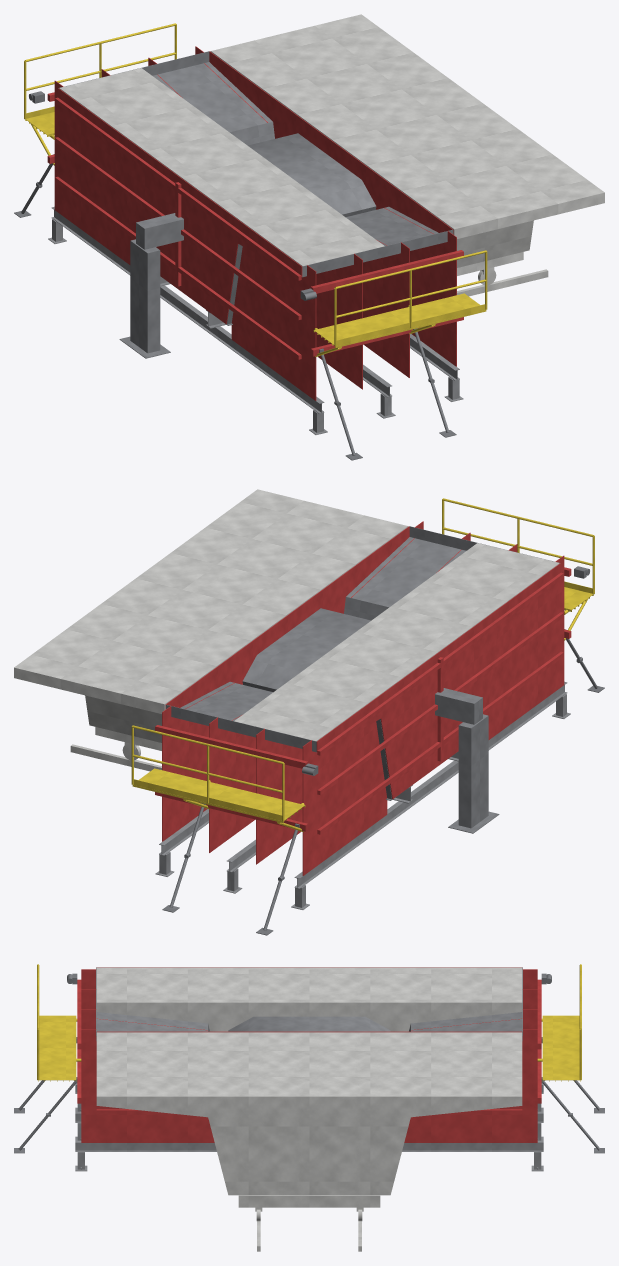
File: short-line-mould.glb
3 views of the same model, one above another, from view 1: azimuth 30°, elevation 25°; view 2: azimuth 150°, elevation 25°; view 3: azimuth 270°, elevation 25° (orthographic). The views are drawn at different scales.
Visible parts, largest first — view 1: Match-CastSegment(context), Ribs&Walers, EndBulkheads, ConcreteUnit(context), InnerCore, SideShutters, Walkways, BaseFrame, Props&Clamps; view 2: Match-CastSegment(context), Ribs&Walers, EndBulkheads, ConcreteUnit(context), InnerCore, SideShutters, Walkways, BaseFrame, Props&Clamps; view 3: Match-CastSegment(context), ConcreteUnit(context), Ribs&Walers, Walkways, BaseFrame, SideShutters, InnerCore, EndBulkheads, Props&Clamps.
Boxes of the visible parts, x1=… form: Match-CastSegment(context): x1=210, y1=14, x2=604, y2=296; Ribs&Walers: x1=47, y1=46, x2=463, y2=400; EndBulkheads: x1=55, y1=51, x2=453, y2=359; ConcreteUnit(context): x1=59, y1=68, x2=384, y2=266; InnerCore: x1=119, y1=133, x2=376, y2=358; SideShutters: x1=58, y1=51, x2=452, y2=324; Walkways: x1=24, y1=23, x2=487, y2=356; BaseFrame: x1=48, y1=206, x2=463, y2=434; Props&Clamps: x1=14, y1=154, x2=456, y2=460; Match-CastSegment(context): x1=14, y1=489, x2=408, y2=771; Ribs&Walers: x1=155, y1=521, x2=571, y2=875; EndBulkheads: x1=165, y1=526, x2=563, y2=834; ConcreteUnit(context): x1=234, y1=543, x2=559, y2=741; InnerCore: x1=242, y1=608, x2=499, y2=833; SideShutters: x1=166, y1=526, x2=560, y2=799; Walkways: x1=131, y1=498, x2=594, y2=831; BaseFrame: x1=155, y1=681, x2=570, y2=909; Props&Clamps: x1=162, y1=629, x2=604, y2=935; Match-CastSegment(context): x1=96, y1=1032, x2=522, y2=1251; ConcreteUnit(context): x1=96, y1=967, x2=522, y2=1031; Ribs&Walers: x1=77, y1=969, x2=541, y2=1142; Walkways: x1=37, y1=964, x2=581, y2=1081; BaseFrame: x1=75, y1=1083, x2=543, y2=1171; SideShutters: x1=96, y1=967, x2=522, y2=1040; InnerCore: x1=228, y1=1016, x2=390, y2=1031; EndBulkheads: x1=96, y1=967, x2=522, y2=1113; Props&Clamps: x1=14, y1=1037, x2=604, y2=1153.
Size of the model in its own units: 7.68 by 3.12 by 11.66.
6 materials, 6 textured.
